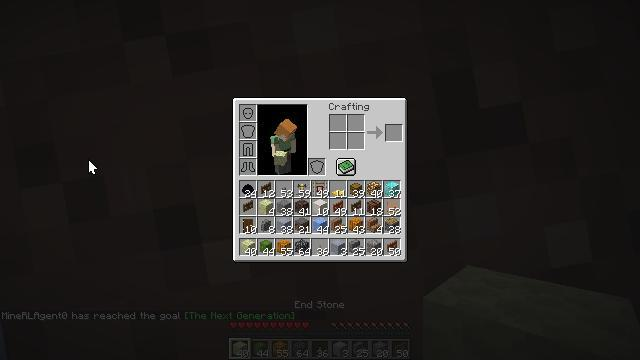cursor: (159, 88, 175, 98)
